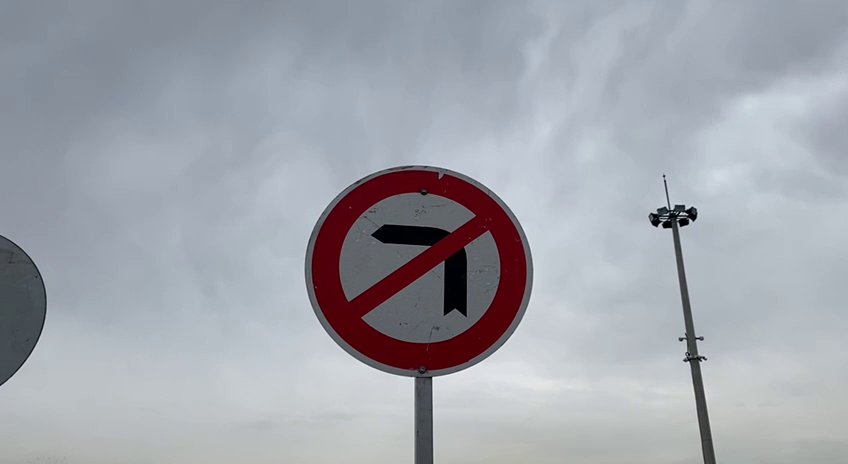noTurnLeft: (297, 161, 538, 384)
